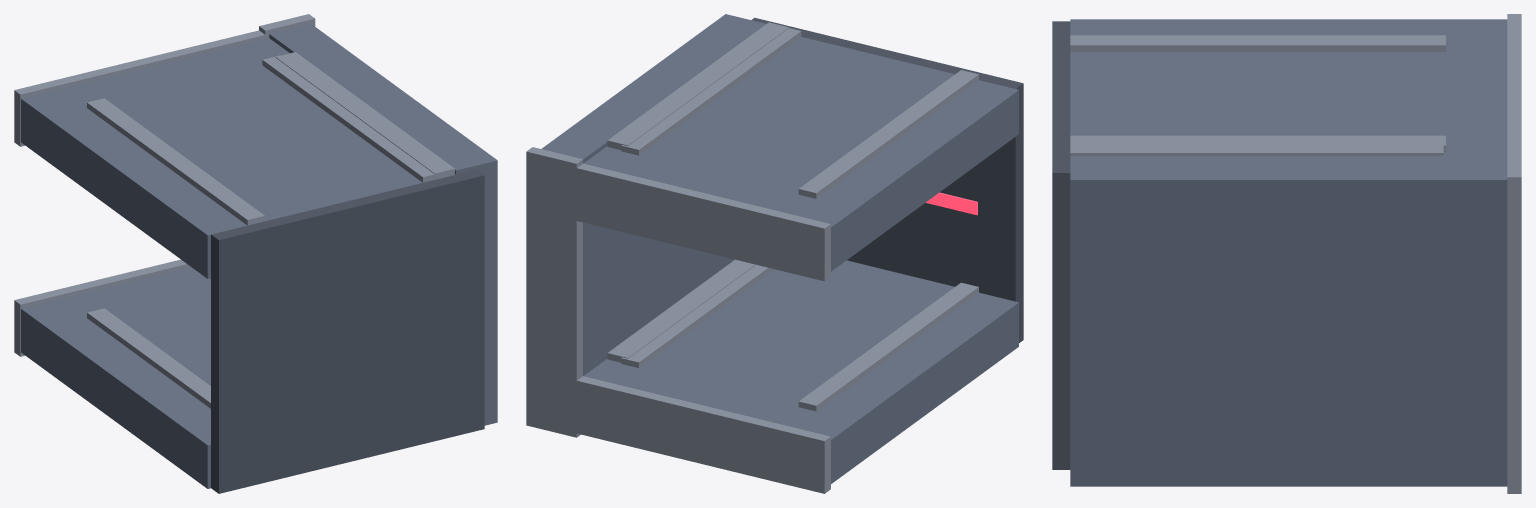
File: corridor_end_3p946.glb
3 renders of one model, left to right at view 1: azimuth 30°, elevation 25°; view 2: azimuth 150°, elevation 25°; view 3: azimuth 270°, elevation 25°, orthographic. The views are drawn at different scales.
Visible parts, largest first — view 1: Floor.003, Wall.004, Wall.003, EndWall, Buttress.008, EndFrame.001, Cap.004, Buttress.009, Buttress.006, Cap.003, EndCap; view 2: Wall.004, Wall.003, EndWall, Floor.003, Cap.004, Cap.003, EndCap, Buttress.008, Buttress.006, EndFrame.001, Buttress.009, EndFrame (+2 smaller); view 3: EndWall, Wall.004, Floor.003, Buttress.008, EndFrame.001, EndCap, Buttress.009, Cap.004.
Boxes of the visible parts, x1,y1,x2,y2 form: Floor.003: [211, 169, 484, 493]; Wall.004: [21, 38, 455, 278]; Wall.003: [21, 267, 210, 488]; EndWall: [269, 24, 497, 425]; Buttress.008: [87, 98, 264, 225]; EndFrame.001: [275, 52, 454, 179]; Cap.004: [14, 30, 269, 146]; Buttress.009: [262, 55, 439, 182]; Buttress.006: [87, 308, 210, 408]; Cap.003: [14, 259, 190, 356]; EndCap: [259, 14, 315, 38]; Wall.004: [584, 37, 1018, 271]; Wall.003: [583, 260, 1018, 483]; EndWall: [541, 14, 765, 375]; Floor.003: [751, 17, 1023, 342]; Cap.004: [547, 161, 830, 281]; Cap.003: [547, 376, 830, 493]; EndCap: [526, 147, 582, 437]; Buttress.008: [798, 70, 978, 198]; Buttress.006: [798, 282, 978, 411]; EndFrame.001: [607, 22, 789, 149]; Buttress.009: [621, 28, 801, 155]; EndFrame: [607, 259, 755, 362]; EndWall: [1070, 156, 1507, 486]; Wall.004: [1070, 19, 1507, 155]; Floor.003: [1052, 21, 1070, 469]; Buttress.008: [1070, 35, 1445, 51]; EndFrame.001: [1070, 141, 1443, 155]; EndCap: [1507, 149, 1521, 493]; Buttress.009: [1070, 135, 1445, 152]; Cap.004: [1507, 14, 1521, 148].
Bounding box in the file's own units: 4.38 × 3.84 × 5.16.
